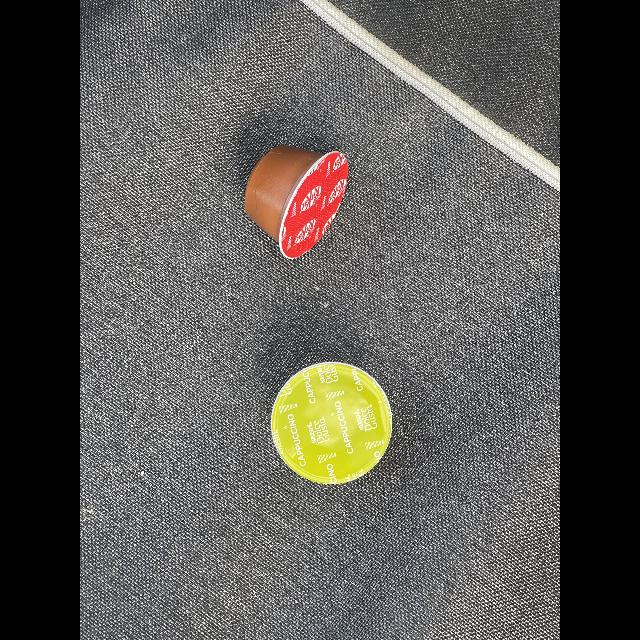intact_capsule: (255, 357, 408, 493), (238, 136, 366, 266)
